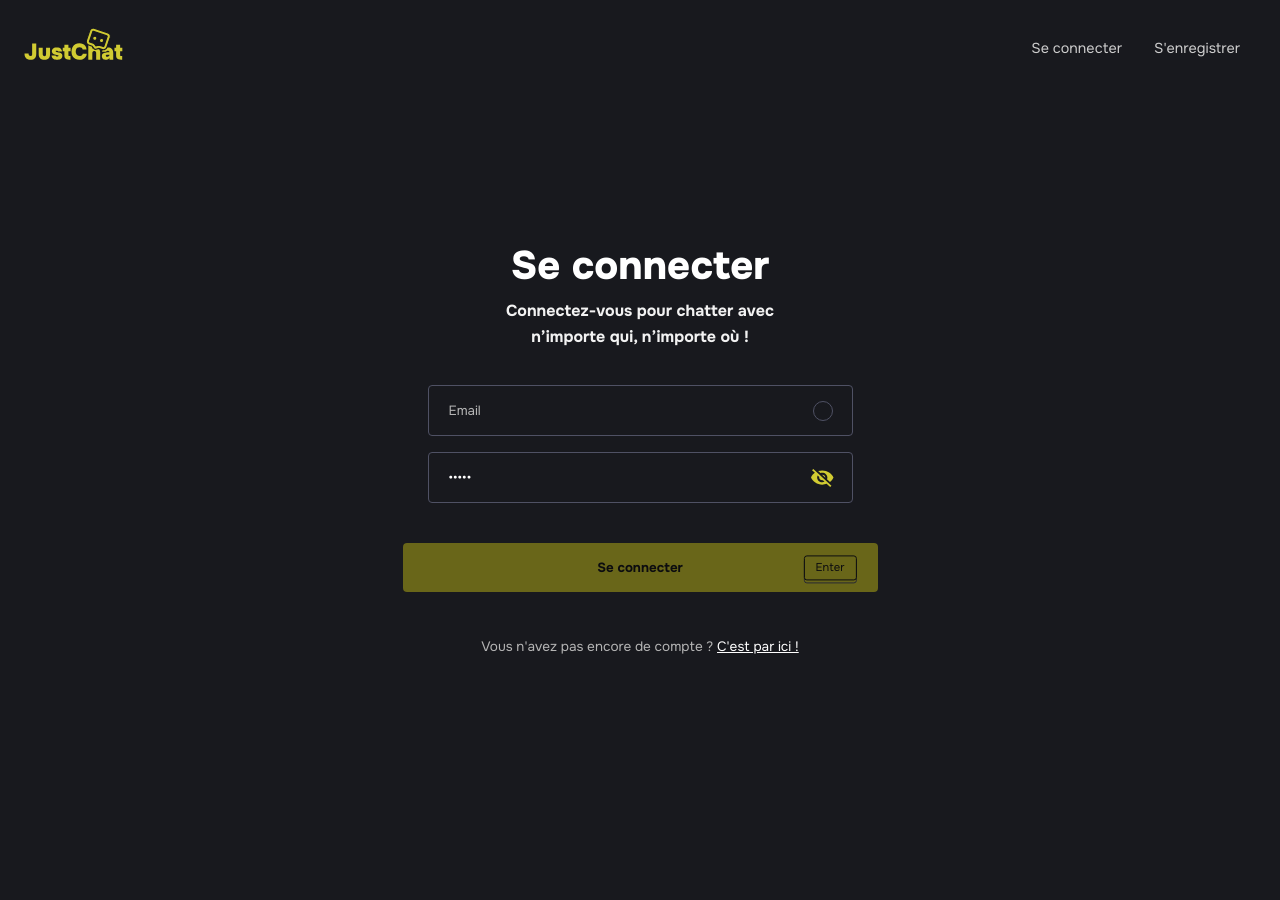
Scenario: Redirection to /register › When we click to the link we are redirected to '/Register' view
Click the link "C'est par ici !" at (758, 647), box [717,638,799,655]
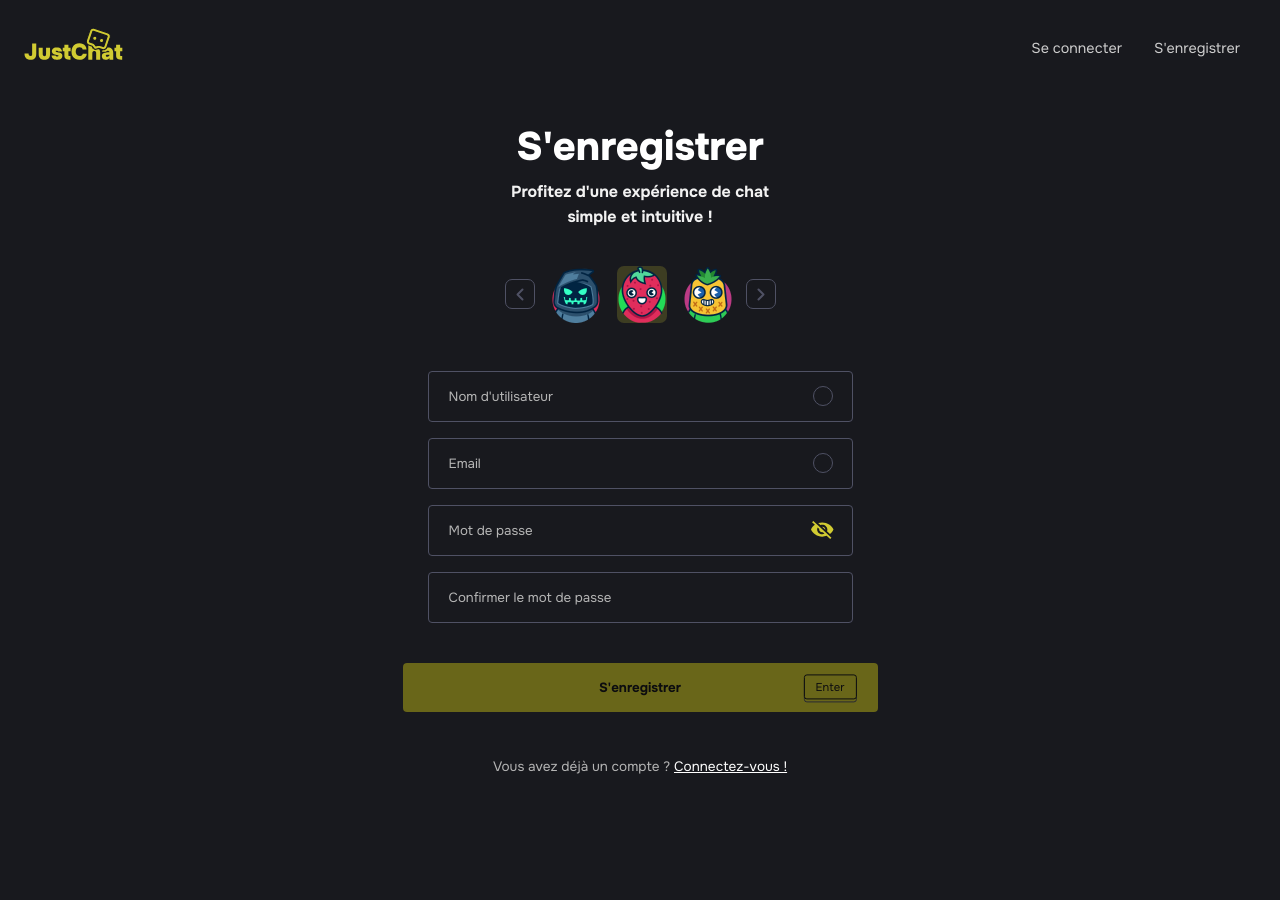
Expected: the heading "S'enregistrer" is shown, [516,127,764,167]
